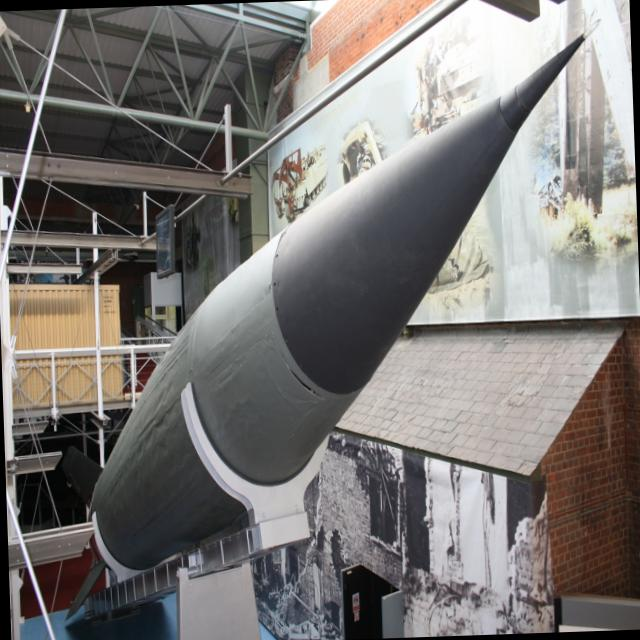rocket: (41, 20, 618, 601)
